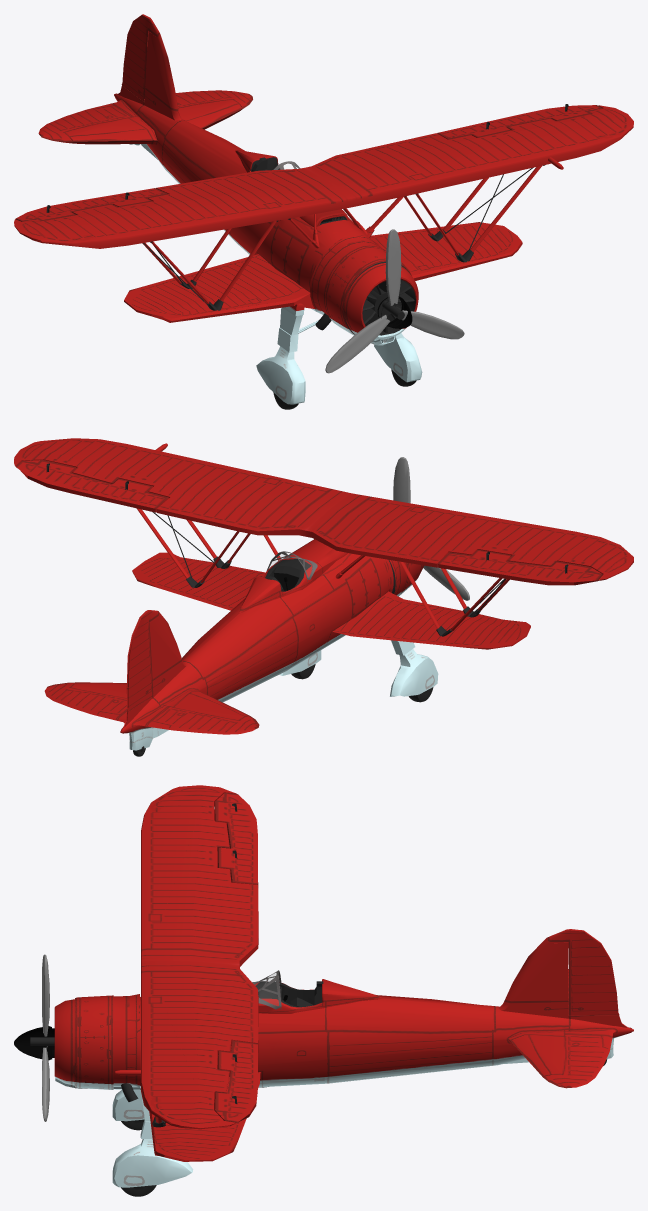
The picture shows the model from 3 angles, top to bottom: view 1: azimuth 30°, elevation 25°; view 2: azimuth 150°, elevation 25°; view 3: azimuth 270°, elevation 25°; orthographic projection. The views are drawn at different scales.
Parts seen in each view (by area): view 1: Circle_2, Circle.003_3; view 2: Circle_2, Circle.003_3; view 3: Circle_2, Circle.003_3.
Part boxes in pixels (box(x1,y1,x2,y2)): Circle_2: box(14, 14, 633, 409); Circle.003_3: box(325, 229, 464, 373); Circle_2: box(14, 438, 633, 750); Circle.003_3: box(393, 457, 469, 600); Circle_2: box(30, 785, 633, 1196); Circle.003_3: box(14, 954, 54, 1121).
Bounding box in the file's own units: 7.06 × 2.54 × 5.93.
5 materials, 1 textured.
